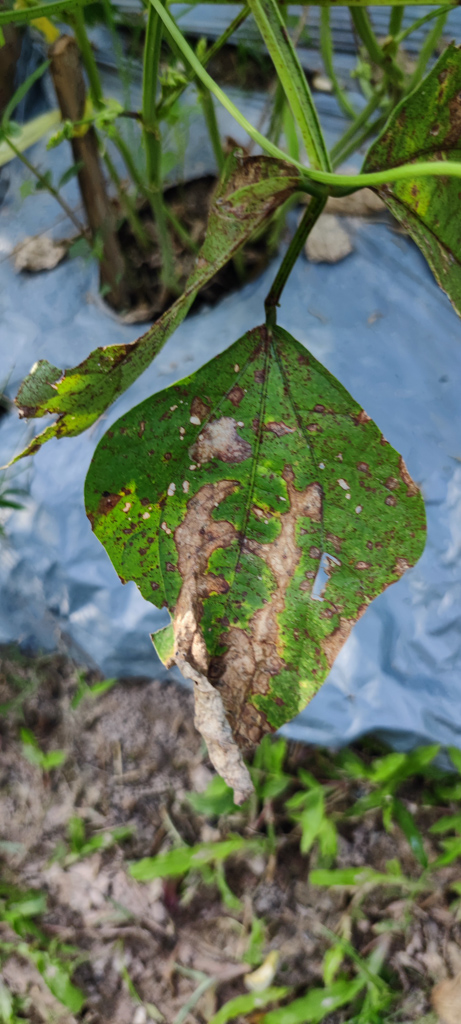Rust: (83, 324, 429, 804), (20, 148, 292, 461), (385, 40, 460, 315)
